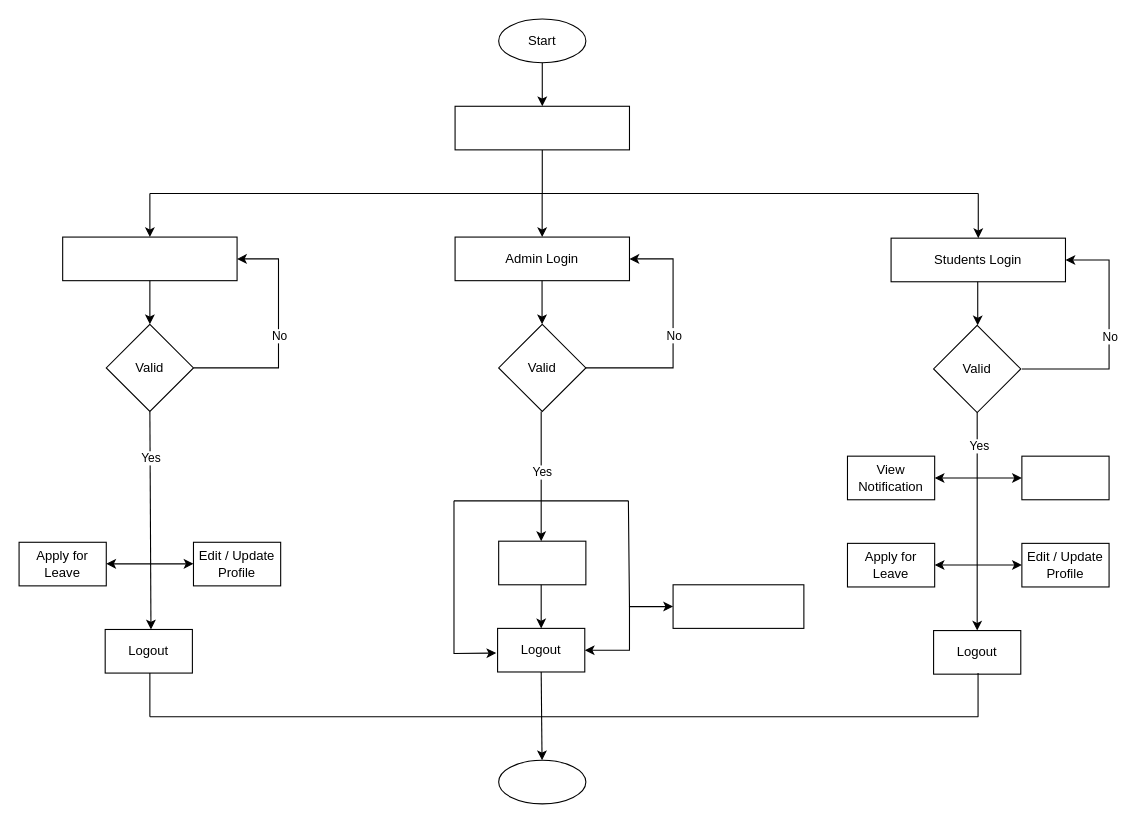
Some shapes in this 1137 by 823 pixel diagram are drawn without their labels. The box of each missing label's shape, as (x1, y1, x2, y2) in pixels:
End: (498, 759, 586, 804)
Manage Subject & Coures: (672, 584, 804, 628)
Send Feedback: (1021, 455, 1109, 500)
Send Notifications: (498, 540, 586, 585)
Staff Login: (62, 236, 237, 281)
Student Management System: (454, 105, 629, 150)
